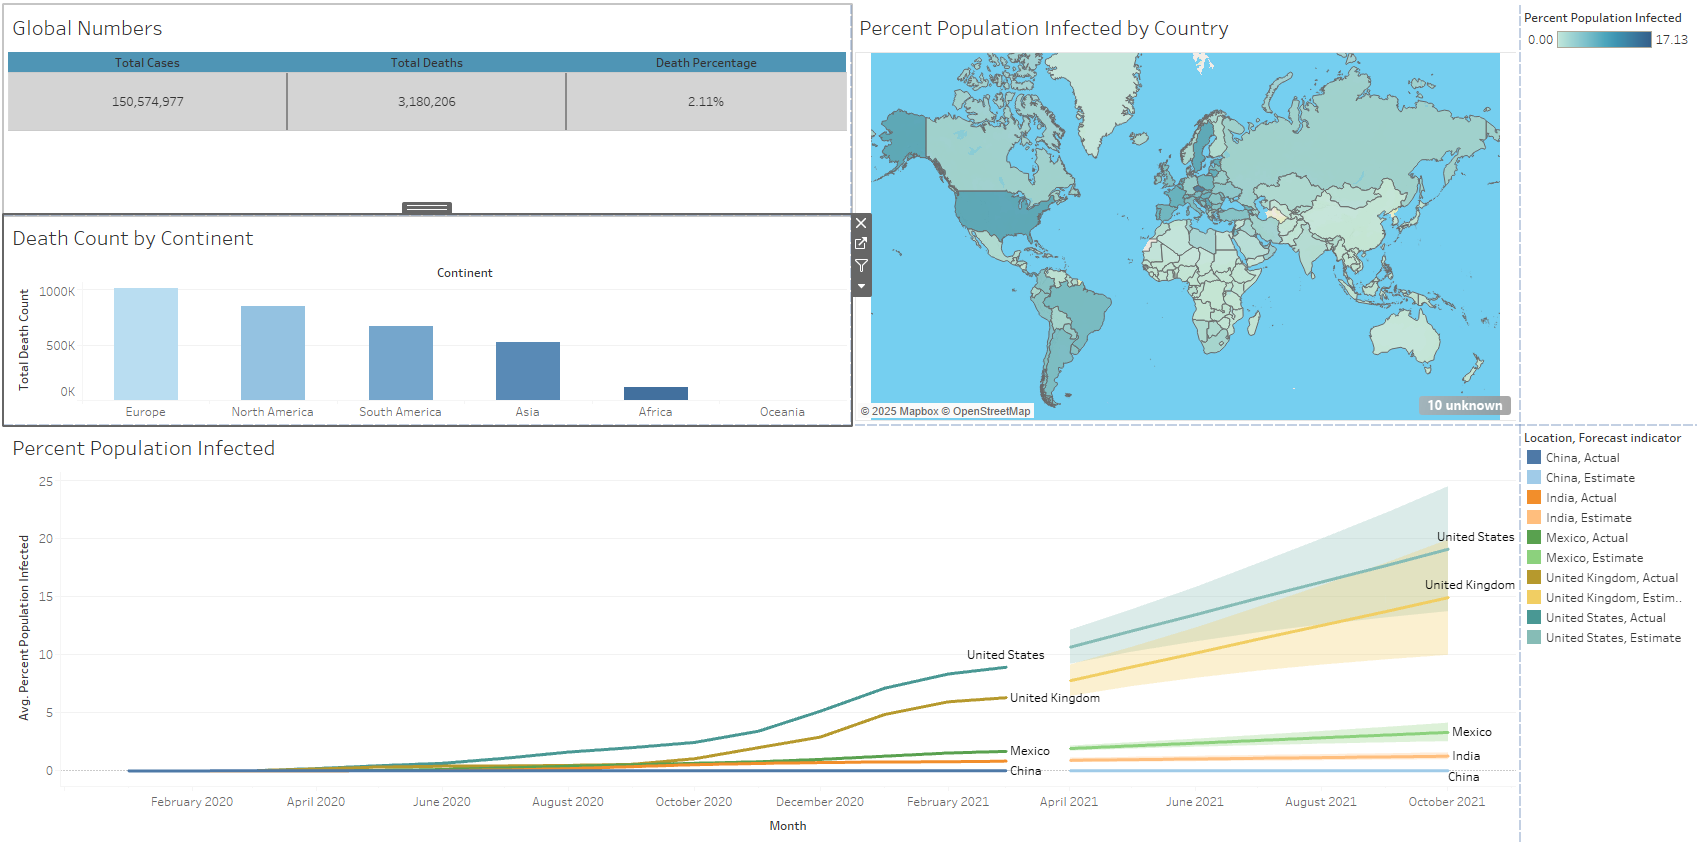

What the dashboard file says about the page in this screenshot:
{"tool":"tableau","page":{"name":"COVID Dashboard","canvas":[1000,1000],"units":"permille","ordinal":0},"visuals":[{"type":"worksheet","title":"Global Numbers","mark":"Automatic","box":[4.7,9.3,495.3,245.3]},{"type":"worksheet","title":"% Pop Infected by Country","mark":"Automatic","box":[500,9.3,391.9,490.7]},{"type":"legend","title":"% Pop Infected by Country","param":"[federated.1e8us361kx53om1dclxmi1ai564m].[sum:PercentPopulationInfected:qk]","box":[891.9,9.3,103.4,490.7]},{"type":"worksheet","title":"Death % by Continent","mark":"Automatic","rows":["TotalDeathCount"],"cols":["location"],"box":[4.7,254.7,495.3,245.3]},{"type":"worksheet","title":"Percent Population Infected","mark":"Automatic","rows":["PercentPopulationInfected"],"cols":["date"],"box":[4.7,500,887.2,490.7]},{"type":"legend","title":"Percent Population Infected","param":"[federated.1d5nhzv0bafds91bzxtdd0hvmbmd].[none:Location:nk]\n[federated.1d5nhzv0b","box":[891.9,500,103.4,490.7]}]}

Visuals, with their boxes on the dashboard's canvas, which has no fixed pixel size, in thousandths of its width and height (x1, y1, x2, y2). These are canvas units, not pixel positions in the 1705x850 screenshot, which may show the page scaled, cropped or inside an application window:
"Global Numbers" worksheet: [5,9,500,255]
"% Pop Infected by Country" worksheet: [500,9,892,500]
"% Pop Infected by Country" legend: [892,9,995,500]
"Death % by Continent" worksheet: [5,255,500,500]
"Percent Population Infected" worksheet: [5,500,892,991]
"Percent Population Infected" legend: [892,500,995,991]
